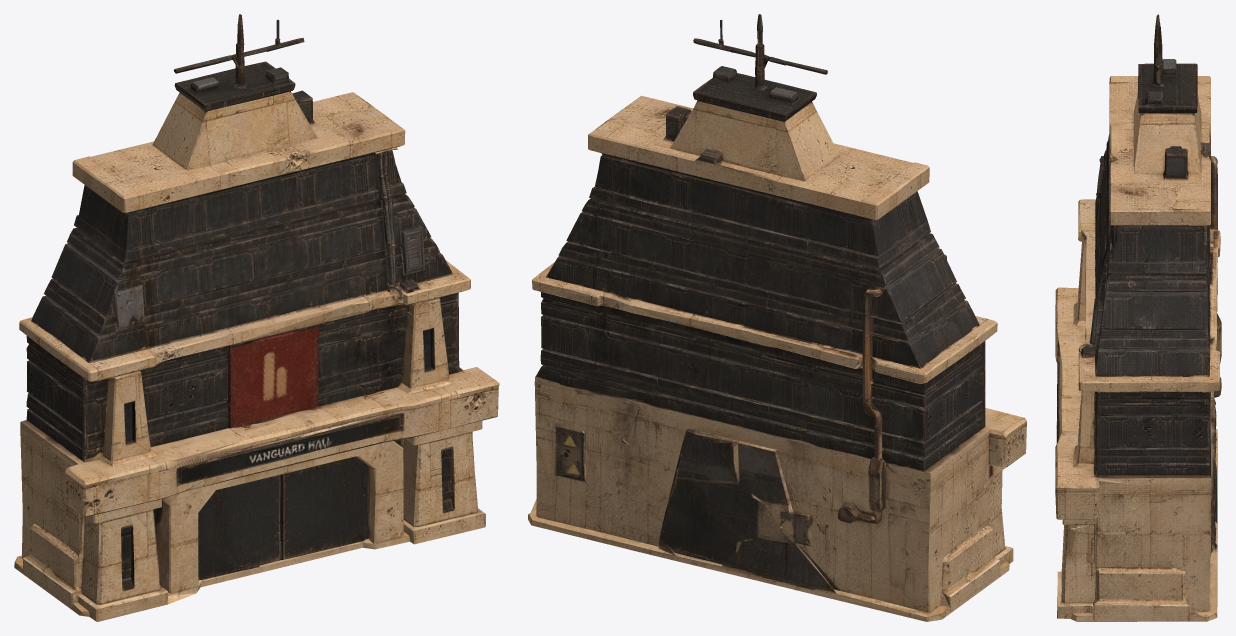
The model's file is hall.glb.
3 renders of one model, left to right at view 1: azimuth 30°, elevation 25°; view 2: azimuth 150°, elevation 25°; view 3: azimuth 270°, elevation 25°, orthographic. The views are drawn at different scales.
Bounding box in the file's own units: 1.59 × 1.9 × 0.5613.
Materials: 1 (1 with a texture image).
